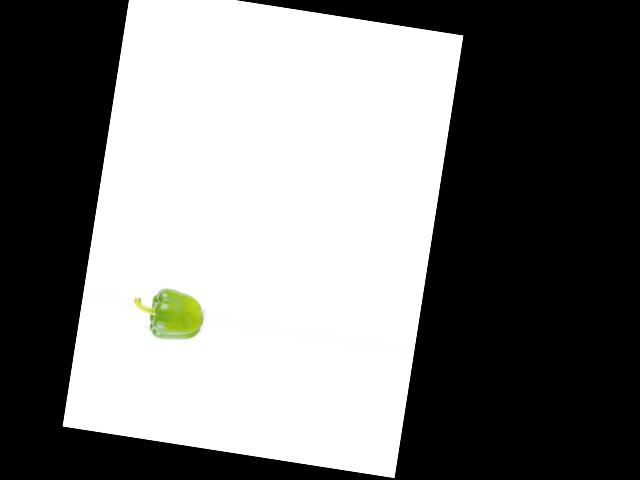bell_pepper: (129, 283, 206, 352)
